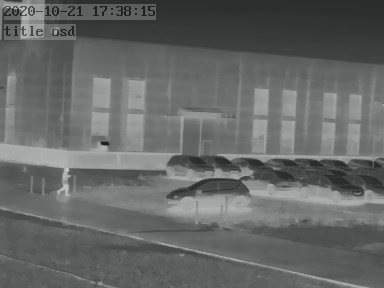person: (57, 166, 71, 196)
vehicle: (167, 177, 250, 209), (301, 174, 364, 201), (238, 170, 302, 193), (164, 152, 207, 178), (350, 173, 382, 200), (204, 154, 240, 177), (232, 154, 269, 171), (346, 156, 380, 171), (262, 155, 295, 169), (318, 156, 348, 170), (295, 156, 324, 169)
